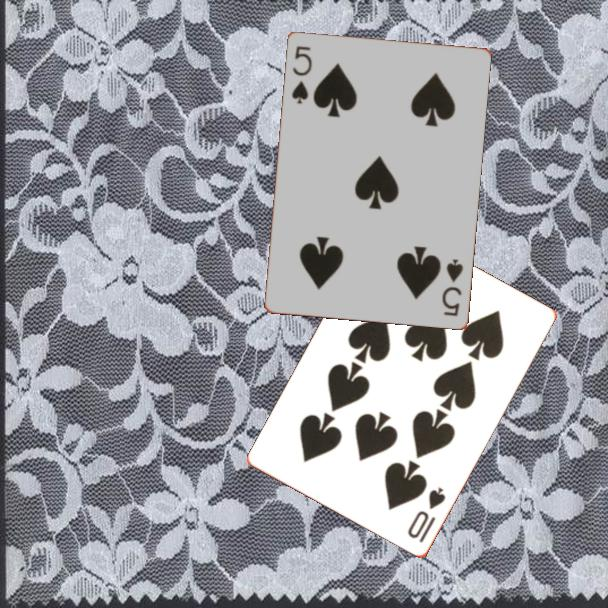s05: (438, 255, 466, 319), (288, 42, 315, 107)
s10: (404, 484, 449, 546)
